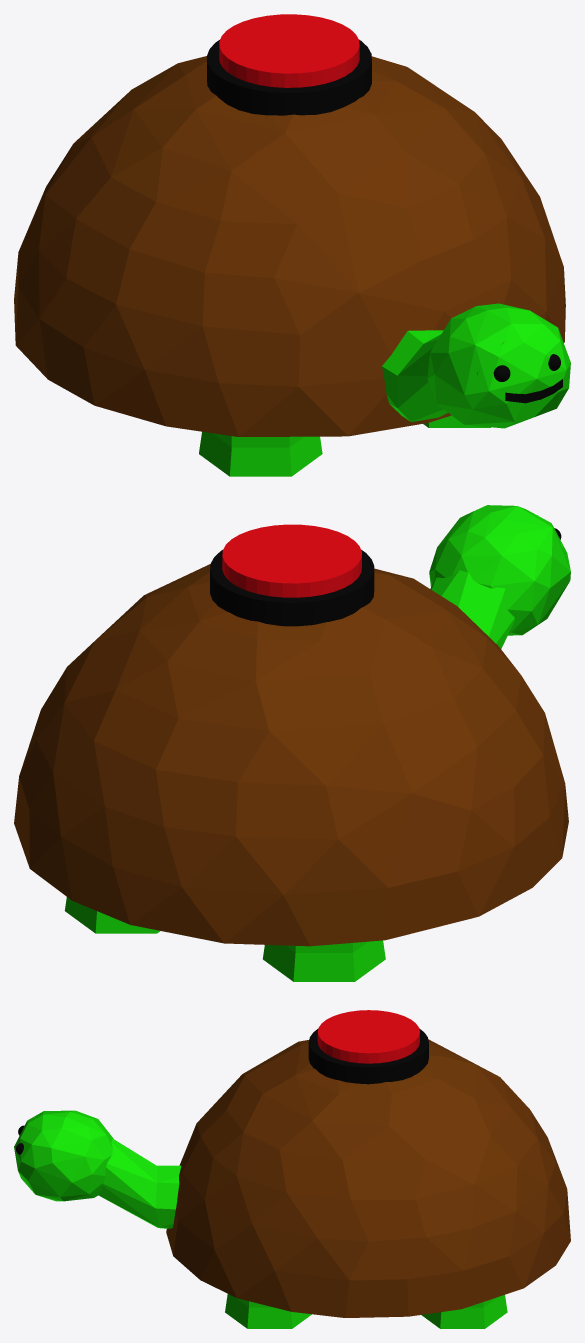
File: BestTurtle.fbx
3 renders of one model, top to bottom at view 1: azimuth 30°, elevation 25°; view 2: azimuth 150°, elevation 25°; view 3: azimuth 270°, elevation 25°, orthographic. The views are drawn at different scales.
Visible parts, largest first — view 1: Turtle, Button, R.Leg; view 2: Turtle, Button, RB.Leg, LB.Leg; view 3: Turtle, Button, L.Leg, LB.Leg.
Boxes of the visible parts, <box> form: Turtle: <box>14,56,570,436</box>; Button: <box>207,14,371,115</box>; R.Leg: <box>199,431,322,476</box>; Turtle: <box>14,505,570,946</box>; Button: <box>210,524,374,626</box>; RB.Leg: <box>263,940,385,981</box>; LB.Leg: <box>64,897,159,933</box>; Turtle: <box>14,1039,570,1317</box>; Button: <box>308,1010,428,1084</box>; L.Leg: <box>225,1294,311,1328</box>; LB.Leg: <box>421,1295,507,1328</box>.
Bounding box in the file's own units: 200 × 133 × 275.
